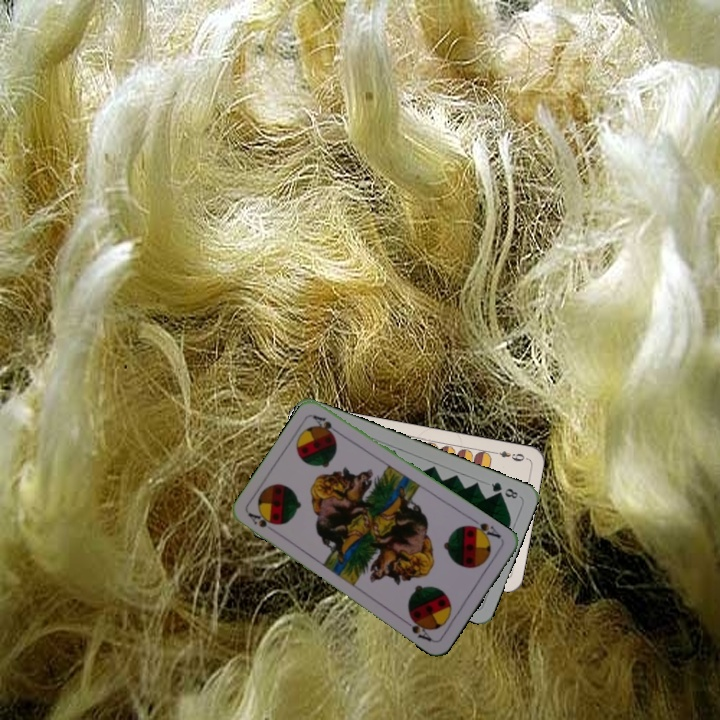E9: (489, 447, 529, 464)
G8: (487, 478, 521, 501)
SA: (465, 515, 503, 543), (244, 508, 276, 530)
